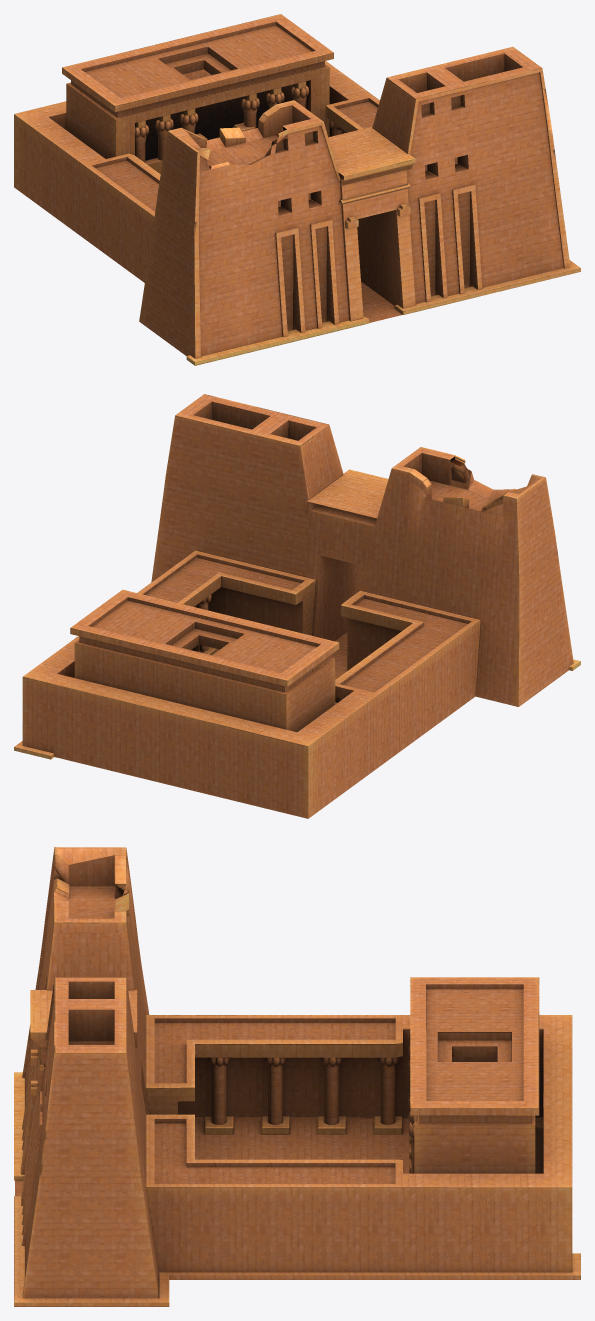
The model's file is Old Structures.fbx.
3 views of the same model, one above another, from view 1: azimuth 30°, elevation 25°; view 2: azimuth 150°, elevation 25°; view 3: azimuth 270°, elevation 25° (orthographic). The views are drawn at different scales.
Visible parts, largest first — view 1: Plane.001_egypt_temple_1.001_0, Plane.001_egypt_temple_1.001_0.054, Plane.001_egypt_temple_1.001_0.111, Plane.001_egypt_temple_1.001_0.112, Plane.001_egypt_temple_1.001_0.003, Plane.001_egypt_temple_1.001_0.002, Plane.001_egypt_temple_1.001_0.001; view 2: Plane.001_egypt_temple_1.001_0, Plane.001_egypt_temple_1.001_0.111, Plane.001_egypt_temple_1.001_0.054, Plane.001_egypt_temple_1.001_0.112; view 3: Plane.001_egypt_temple_1.001_0.111, Plane.001_egypt_temple_1.001_0, Plane.001_egypt_temple_1.001_0.054, Plane.001_egypt_temple_1.001_0.001, Plane.001_egypt_temple_1.001_0.003, Plane.001_egypt_temple_1.001_0.112, Plane.001_egypt_temple_1.001_0.002, Plane.001_egypt_temple_1.001_0.089, Plane.001_egypt_temple_1.001_0.110, Plane.001_egypt_temple_1.001_0.103, Plane.001_egypt_temple_1.001_0.096.
Boxes of the visible parts, x1=… form: Plane.001_egypt_temple_1.001_0: x1=139, y1=47, x2=570, y2=358; Plane.001_egypt_temple_1.001_0.054: x1=62, y1=14, x2=333, y2=173; Plane.001_egypt_temple_1.001_0.111: x1=14, y1=61, x2=379, y2=282; Plane.001_egypt_temple_1.001_0.112: x1=328, y1=126, x2=415, y2=186; Plane.001_egypt_temple_1.001_0.003: x1=394, y1=260, x2=580, y2=314; Plane.001_egypt_temple_1.001_0.002: x1=186, y1=315, x2=369, y2=365; Plane.001_egypt_temple_1.001_0.001: x1=361, y1=281, x2=402, y2=322; Plane.001_egypt_temple_1.001_0: x1=151, y1=394, x2=573, y2=706; Plane.001_egypt_temple_1.001_0.111: x1=22, y1=550, x2=480, y2=818; Plane.001_egypt_temple_1.001_0.054: x1=70, y1=589, x2=339, y2=732; Plane.001_egypt_temple_1.001_0.112: x1=306, y1=469, x2=388, y2=518; Plane.001_egypt_temple_1.001_0.111: x1=145, y1=1015, x2=572, y2=1275; Plane.001_egypt_temple_1.001_0: x1=21, y1=847, x2=159, y2=1298; Plane.001_egypt_temple_1.001_0.054: x1=410, y1=977, x2=539, y2=1173; Plane.001_egypt_temple_1.001_0.001: x1=15, y1=1118, x2=543, y2=1196; Plane.001_egypt_temple_1.001_0.003: x1=14, y1=1196, x2=580, y2=1306; Plane.001_egypt_temple_1.001_0.112: x1=30, y1=990, x2=137, y2=1048; Plane.001_egypt_temple_1.001_0.002: x1=14, y1=1072, x2=24, y2=1180; Plane.001_egypt_temple_1.001_0.089: x1=211, y1=1063, x2=226, y2=1124; Plane.001_egypt_temple_1.001_0.110: x1=380, y1=1063, x2=395, y2=1124; Plane.001_egypt_temple_1.001_0.103: x1=324, y1=1063, x2=338, y2=1124; Plane.001_egypt_temple_1.001_0.096: x1=268, y1=1063, x2=282, y2=1124.
Size of the model in its own units: 111194 by 54208 by 115691.
1 material, 1 textured.
